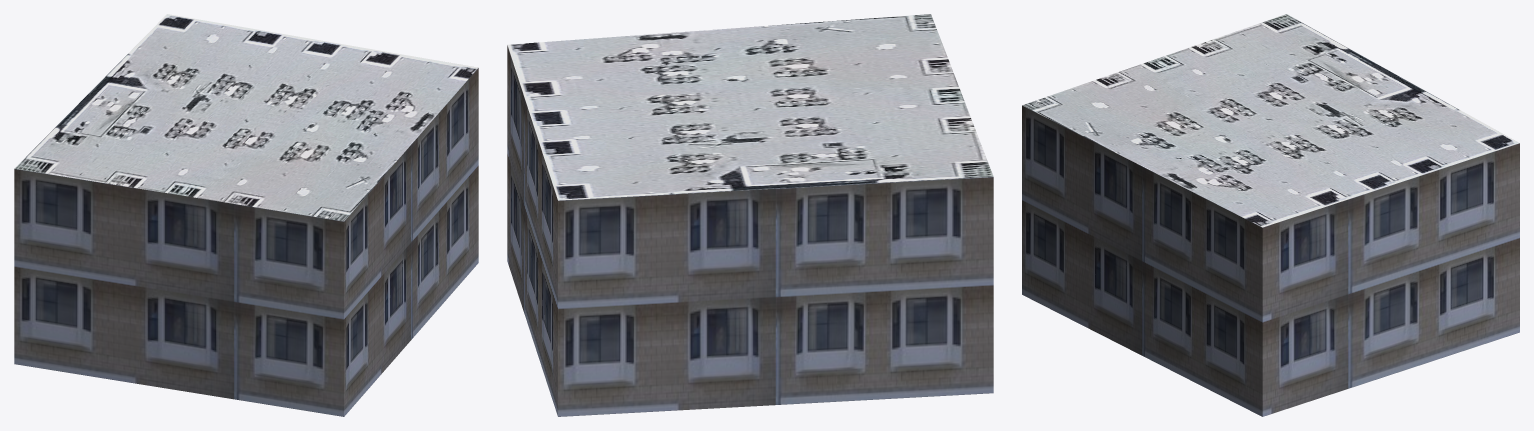
The model's file is ResTex__1443.fbx.
3 views of the same model, side by side, from view 1: azimuth 30°, elevation 25°; view 2: azimuth 150°, elevation 25°; view 3: azimuth 270°, elevation 25° (orthographic). The views are drawn at different scales.
Visible parts, largest first — view 1: CityEngineMaterial_3_m, CityEngineMaterial_4_m; view 2: CityEngineMaterial_3_m, CityEngineMaterial_4_m; view 3: CityEngineMaterial_3_m, CityEngineMaterial_4_m.
Part boxes in pixels (bbox=[...]): CityEngineMaterial_3_m: bbox=[14, 68, 478, 416]; CityEngineMaterial_4_m: bbox=[15, 14, 477, 221]; CityEngineMaterial_3_m: bbox=[507, 45, 993, 416]; CityEngineMaterial_4_m: bbox=[507, 14, 993, 200]; CityEngineMaterial_3_m: bbox=[1022, 105, 1519, 416]; CityEngineMaterial_4_m: bbox=[1022, 14, 1519, 227].
Bounding box in the file's own units: 14.51 × 6 × 14.29.
2 materials, 2 textured.
